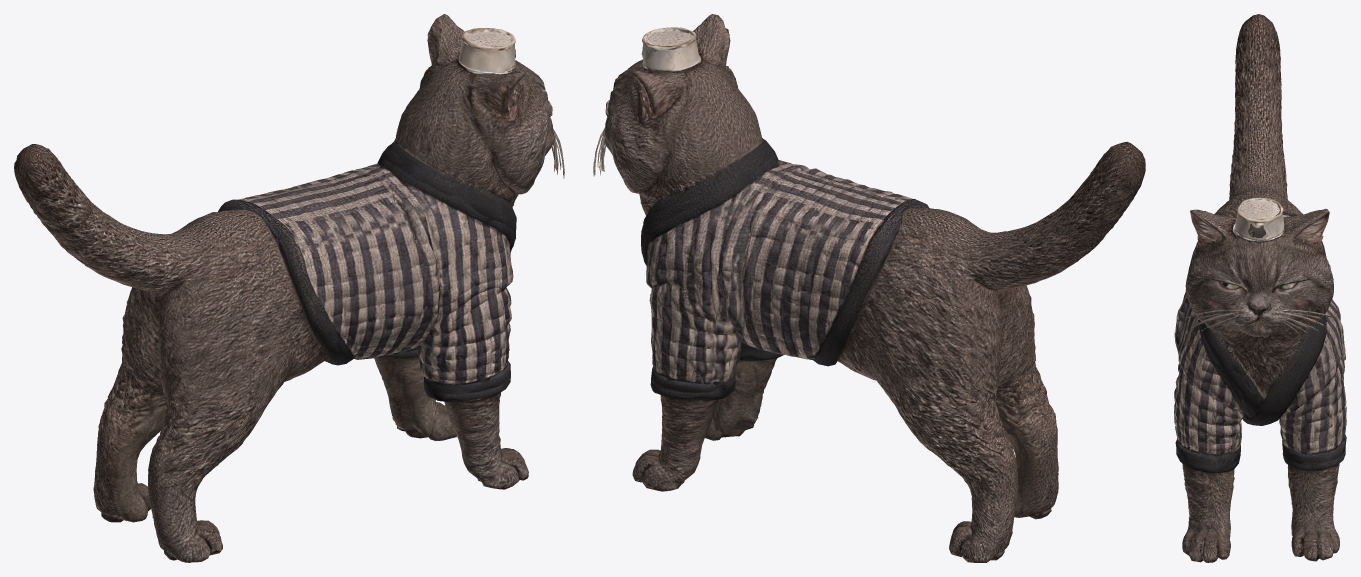
Rendered from HEIZOU.glb.
3 views of the same model, side by side, from view 1: azimuth 30°, elevation 25°; view 2: azimuth 150°, elevation 25°; view 3: azimuth 270°, elevation 25° (orthographic). The views are drawn at different scales.
Visible parts, largest first — view 1: tripo_node_1e9de2b3-97af-4827-8452-b3a7c5578d28; view 2: tripo_node_1e9de2b3-97af-4827-8452-b3a7c5578d28; view 3: tripo_node_1e9de2b3-97af-4827-8452-b3a7c5578d28.
Boxes of the visible parts, x1,y1,x2,y2 form: tripo_node_1e9de2b3-97af-4827-8452-b3a7c5578d28: (14, 14, 564, 562); tripo_node_1e9de2b3-97af-4827-8452-b3a7c5578d28: (593, 14, 1145, 562); tripo_node_1e9de2b3-97af-4827-8452-b3a7c5578d28: (1174, 14, 1346, 562).
Bounding box in the file's own units: 1.33 × 0.9984 × 0.4353.
Materials: 1 (1 with a texture image).
